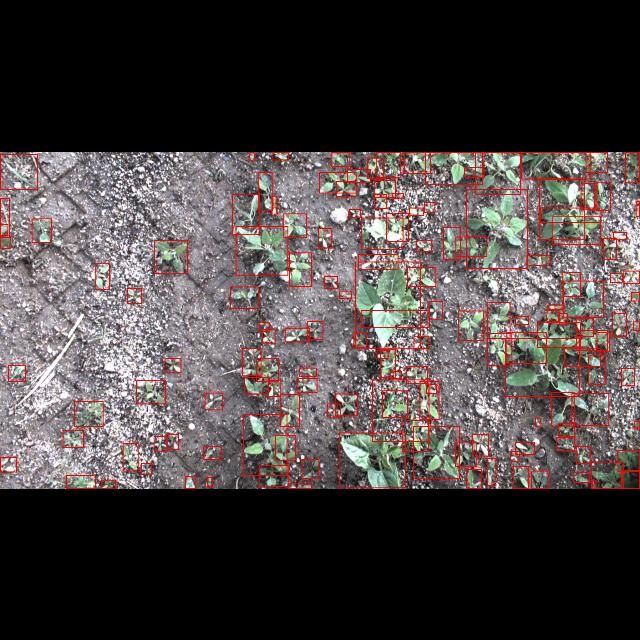crop: (356, 261, 420, 347), (339, 432, 405, 488), (361, 218, 403, 248)
weed: (467, 188, 528, 268), (504, 338, 580, 396), (372, 379, 430, 441), (243, 414, 287, 476), (540, 179, 584, 239), (236, 226, 288, 274), (413, 426, 459, 478), (476, 151, 520, 193), (426, 151, 482, 183), (522, 152, 590, 178), (563, 280, 603, 316), (553, 216, 601, 244), (0, 154, 38, 188), (506, 332, 546, 362), (572, 393, 608, 425), (232, 193, 260, 234), (154, 240, 188, 272), (361, 310, 429, 326), (538, 322, 580, 346), (541, 206, 601, 222), (591, 462, 623, 488), (488, 302, 510, 338), (458, 310, 484, 340), (402, 420, 428, 450), (488, 333, 512, 365), (289, 252, 311, 286), (552, 392, 574, 426), (319, 172, 356, 192), (382, 390, 408, 418), (419, 381, 438, 419), (74, 402, 104, 426), (136, 380, 166, 404), (564, 348, 600, 366), (280, 394, 300, 426), (576, 330, 608, 350), (230, 286, 258, 308), (386, 213, 408, 241), (259, 466, 289, 486), (456, 236, 486, 256), (376, 152, 400, 176), (444, 227, 461, 260), (408, 266, 436, 286), (358, 254, 398, 268), (588, 354, 606, 384), (259, 172, 273, 210), (284, 213, 306, 237), (276, 434, 296, 460), (404, 152, 430, 172), (242, 348, 260, 376), (335, 393, 357, 415), (256, 358, 278, 380), (32, 218, 52, 242), (456, 442, 476, 466), (122, 443, 138, 471), (380, 349, 396, 377), (586, 151, 608, 171), (562, 271, 580, 295), (618, 451, 638, 472), (625, 151, 639, 181), (596, 180, 610, 210), (244, 377, 268, 393), (0, 198, 10, 236), (374, 180, 396, 197), (284, 327, 310, 341), (96, 263, 110, 289), (581, 183, 595, 209), (473, 434, 489, 456), (367, 156, 383, 178), (66, 476, 95, 488), (63, 429, 83, 446), (612, 312, 626, 336), (407, 366, 428, 382), (205, 392, 223, 410), (621, 470, 639, 488), (531, 470, 549, 488), (466, 469, 482, 489), (336, 180, 356, 196), (348, 168, 370, 182), (514, 466, 528, 488), (302, 459, 318, 478), (8, 365, 26, 381), (577, 317, 593, 335), (486, 458, 496, 486), (297, 378, 317, 392), (330, 151, 350, 165), (318, 227, 332, 247), (596, 332, 610, 352), (0, 456, 16, 472), (428, 300, 442, 318), (308, 321, 322, 339), (576, 446, 590, 464), (526, 255, 550, 265), (604, 238, 616, 258), (203, 446, 221, 459), (556, 436, 574, 449), (165, 358, 181, 372), (622, 368, 634, 386), (516, 442, 534, 454), (268, 379, 280, 396), (464, 166, 484, 176), (262, 329, 276, 343), (128, 288, 142, 302), (624, 270, 640, 282), (558, 424, 574, 436), (354, 332, 366, 346), (324, 276, 338, 288), (154, 436, 166, 450), (167, 434, 179, 448), (374, 194, 386, 208), (414, 336, 428, 348), (574, 472, 590, 482), (416, 240, 432, 250), (328, 404, 340, 416), (272, 151, 288, 159), (300, 368, 316, 376), (185, 476, 195, 488), (610, 272, 622, 282), (0, 236, 10, 248), (141, 463, 151, 475), (547, 310, 559, 320), (102, 480, 116, 488), (408, 208, 424, 215), (258, 322, 270, 331), (425, 202, 435, 212), (510, 451, 520, 461), (426, 384, 436, 394), (288, 484, 312, 488), (614, 231, 626, 239), (516, 316, 528, 324), (559, 312, 567, 324), (0, 223, 8, 234), (391, 370, 402, 378), (377, 350, 388, 358), (272, 195, 276, 215), (350, 208, 360, 216), (392, 192, 404, 198), (339, 291, 351, 297), (631, 292, 639, 300), (636, 200, 640, 216), (548, 304, 564, 308), (633, 322, 639, 331), (634, 421, 640, 429), (208, 477, 212, 487), (536, 418, 540, 427), (250, 152, 254, 160), (592, 480, 596, 488)
